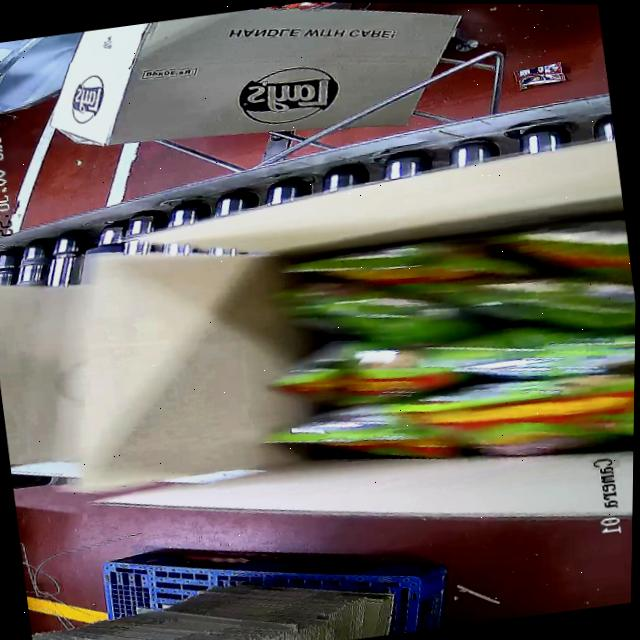YOGURT_HERB: (271, 204, 637, 486)
